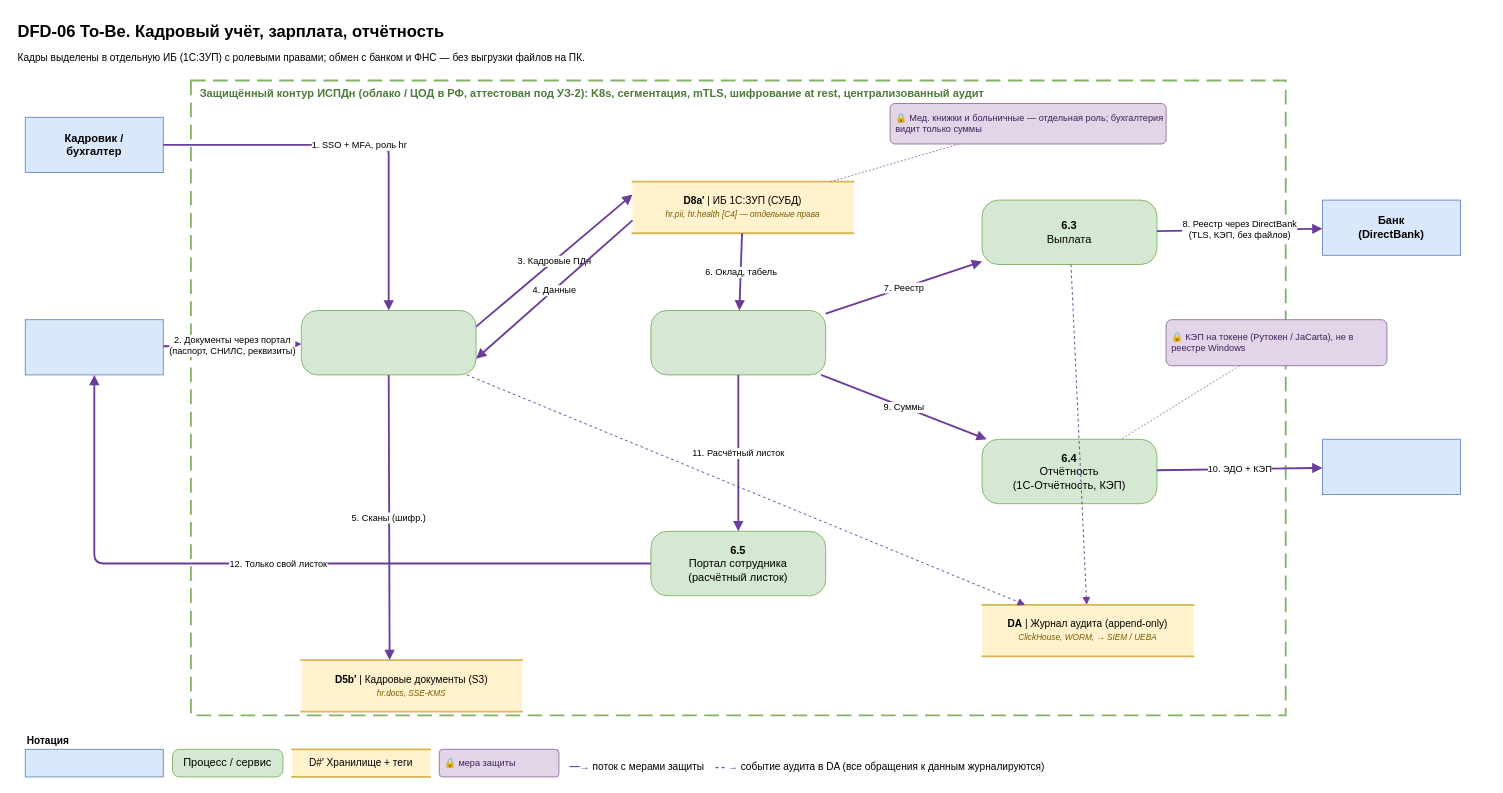
Image size: 1503x793. Some labels were removed from this diagram. Here are the shapes that lost their labels. From the top down, the centre of each, then its label:
At (93,347): "Сотрудник".
At (388,342): "6.1 Кадровый учёт (1С:ЗУП)".
At (738,342): "6.2 Начисление зарплаты".
At (1391,466): "ФНС / СФР".
At (93,762): "Внешняя сущность / роль".
